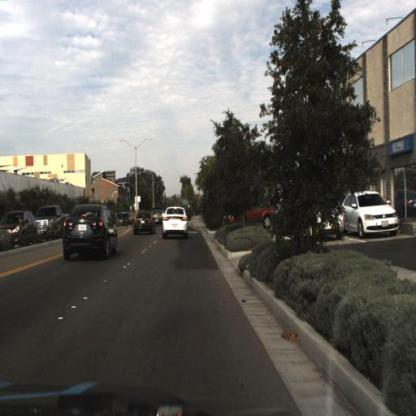car: (62, 205, 119, 265), (340, 189, 402, 240), (221, 195, 285, 230), (1, 208, 39, 253), (35, 203, 64, 243), (161, 204, 190, 243), (35, 206, 65, 233), (134, 208, 157, 239)
